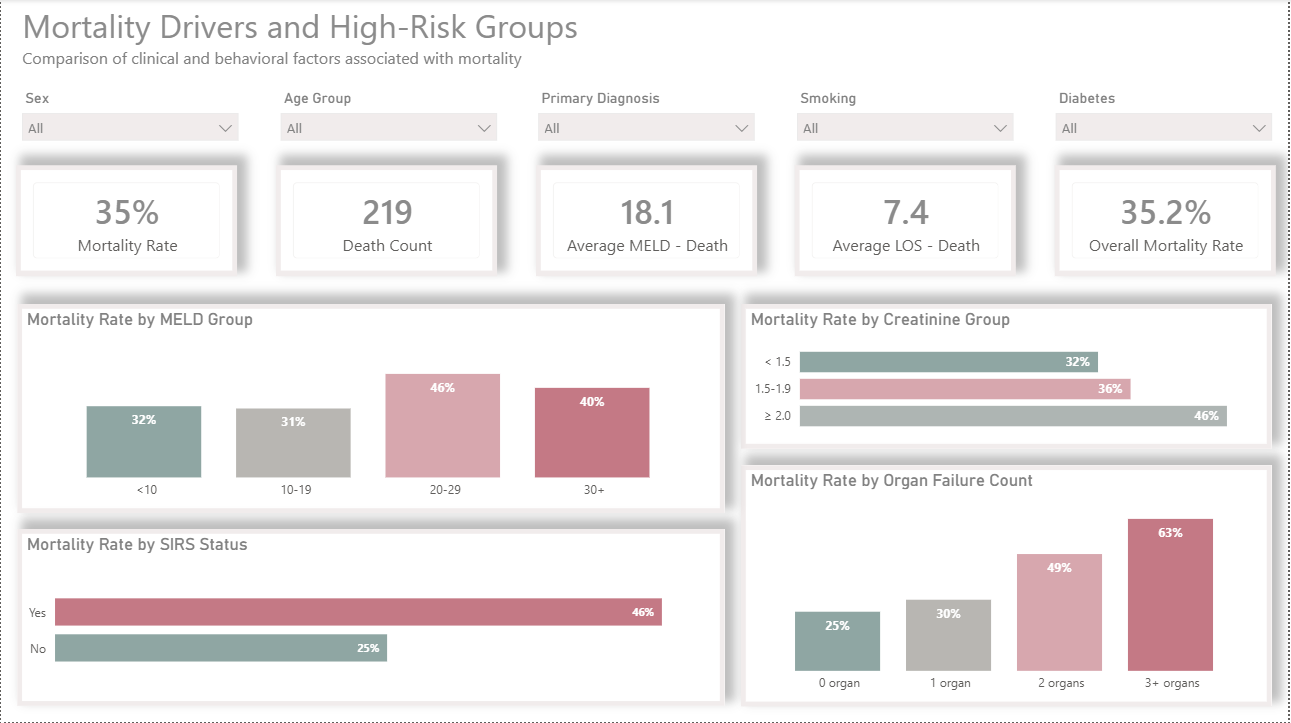

This screenshot's page, from the dashboard's own definition file:
{"tool":"powerbi","page":{"name":"Mortality Drivers","canvas":[1280,720],"ordinal":1},"visuals":[{"type":"cardVisual","fields":{"Data":["Measures (2).Death Count"]},"box":[273.5,165,220,110],"z":0},{"type":"cardVisual","fields":{"Data":["Measures (2).Mortality Rate"]},"box":[15,165,220,110],"z":1000},{"type":"cardVisual","fields":{"Data":["KPI Measures.Average MELD - Death"]},"box":[532,165,220,110],"z":3000},{"type":"cardVisual","fields":{"Data":["KPI Measures.Average LOS - Death"]},"box":[790.5,165,220,110],"z":4000},{"type":"textbox","box":[16,0,640,80],"z":5000},{"type":"slicer","fields":{"Values":["Liver_Data.Sex"]},"box":[16,90,225,65],"z":6000},{"type":"slicer","fields":{"Values":["Liver_Data.Age_Group"]},"box":[273.2,90,225,65],"z":7000},{"type":"slicer","fields":{"Values":["Liver_Data.Primary_Diagnosis"]},"box":[530.5,90,225,65],"z":8000},{"type":"clusteredBarChart","title":"Mortality Rate by SIRS Status","fields":{"Category":["Liver_Data.SIRS"],"Y":["KPI Measures.Mortality Rate"]},"box":[16,528,704,176],"z":9000},{"type":"clusteredColumnChart","title":"Mortality Rate by Organ Failure Count","fields":{"Category":["Liver_Data.Organ_Failure_Group"],"Y":["KPI Measures.Mortality Rate"]},"box":[736,464,528,240],"z":10000},{"type":"clusteredBarChart","title":"Mortality Rate by Creatinine Group","fields":{"Category":["Liver_Data.Creatinine_Group"],"Y":["KPI Measures.Mortality Rate"]},"box":[736,304,528,144],"z":11000},{"type":"clusteredColumnChart","title":"Mortality Rate by MELD Group","fields":{"Category":["Liver_Data.MELD_Group"],"Y":["KPI Measures.Mortality Rate"]},"box":[16,304,704,208],"z":12000},{"type":"slicer","fields":{"Values":["Liver_Data.Diabetes"]},"box":[1045,90,225,65],"z":13000},{"type":"slicer","fields":{"Values":["Liver_Data.Smoking"]},"box":[787.8,90,225,65],"z":14000},{"type":"cardVisual","fields":{"Data":["KPI Measures.Overall Mortality Rate"]},"box":[1049,165,220,110],"z":15000}]}

Visuals, with their boxes in screenshot pixels (x1, y1, x2, y2), scaled from the page's 1280x720 canvas onto the 1291x723 screenshot:
cardVisual - Measures (2).Death Count: <bbox>276, 166, 498, 276</bbox>
cardVisual - Measures (2).Mortality Rate: <bbox>15, 166, 237, 276</bbox>
cardVisual - KPI Measures.Average MELD - Death: <bbox>537, 166, 758, 276</bbox>
cardVisual - KPI Measures.Average LOS - Death: <bbox>797, 166, 1019, 276</bbox>
textbox: <bbox>16, 0, 662, 80</bbox>
slicer - Liver_Data.Sex: <bbox>16, 90, 243, 156</bbox>
slicer - Liver_Data.Age_Group: <bbox>276, 90, 502, 156</bbox>
slicer - Liver_Data.Primary_Diagnosis: <bbox>535, 90, 762, 156</bbox>
"Mortality Rate by SIRS Status" clusteredBarChart: <bbox>16, 530, 726, 707</bbox>
"Mortality Rate by Organ Failure Count" clusteredColumnChart: <bbox>742, 466, 1275, 707</bbox>
"Mortality Rate by Creatinine Group" clusteredBarChart: <bbox>742, 305, 1275, 450</bbox>
"Mortality Rate by MELD Group" clusteredColumnChart: <bbox>16, 305, 726, 514</bbox>
slicer - Liver_Data.Diabetes: <bbox>1054, 90, 1281, 156</bbox>
slicer - Liver_Data.Smoking: <bbox>795, 90, 1022, 156</bbox>
cardVisual - KPI Measures.Overall Mortality Rate: <bbox>1058, 166, 1280, 276</bbox>
